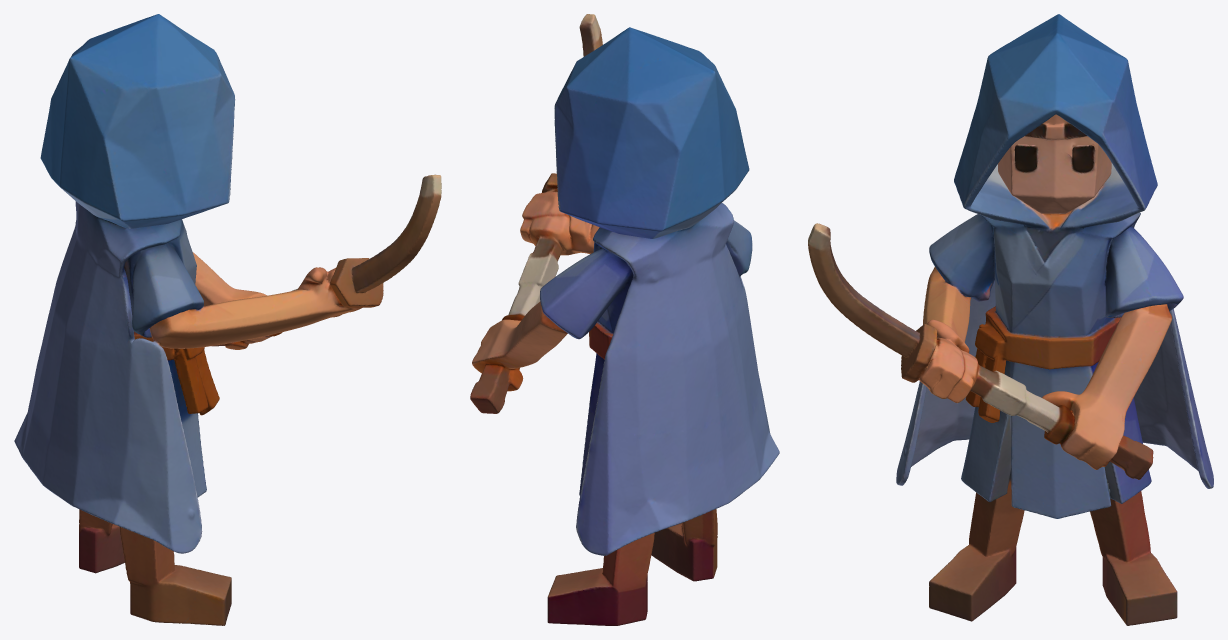
Rendered from archer.glb.
3 views of the same model, side by side, from view 1: azimuth 30°, elevation 25°; view 2: azimuth 150°, elevation 25°; view 3: azimuth 270°, elevation 25° (orthographic). The views are drawn at different scales.
Parts seen in each view (by area): view 1: tripo_node_3769f101-0454-4235-928b-3c53ec94f486; view 2: tripo_node_3769f101-0454-4235-928b-3c53ec94f486; view 3: tripo_node_3769f101-0454-4235-928b-3c53ec94f486.
Part boxes in pixels (x1,y1,x2,y2): tripo_node_3769f101-0454-4235-928b-3c53ec94f486: [14, 14, 441, 625]; tripo_node_3769f101-0454-4235-928b-3c53ec94f486: [470, 14, 779, 625]; tripo_node_3769f101-0454-4235-928b-3c53ec94f486: [808, 14, 1213, 625].
Size of the model in its own units: 0.5045 by 1 by 0.6415.
Materials: 1 (1 with a texture image).
